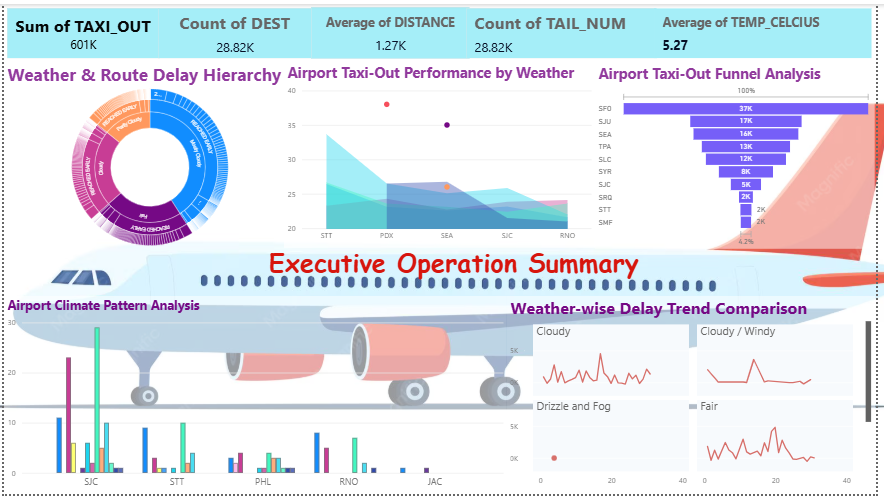

The page's visual inventory and layout, read from the dashboard file:
{"tool":"powerbi","page":{"name":"Page 25","canvas":[1280,720],"ordinal":27},"visuals":[{"type":"Sunburst1445472000808","title":"Weather & Route Delay Hierarchy","fields":{"Nodes":["M1_final.Condition","M1_final.Delay category","M1_final.DISTANCE"],"Values":["CountNonNull(M1_final.DEST)"]},"box":[0,86.7,429.1,273.3],"z":0},{"type":"lineChart","title":"Weather-wise Delay Trend Comparison","fields":{"Category":["M1_final.DAY_OF_MONTH"],"Y":["Sum(M1_final.DEP_DELAY)"],"Rows":["M1_final.Condition"]},"box":[739.1,429.1,540.7,290.9],"z":1000},{"type":"areaChart","title":"Airport Taxi-Out Performance by Weather","fields":{"Category":["M1_final.DEST"],"Y":["Avg(M1_final.TAXI_OUT)"],"Series":["M1_final.Condition"]},"box":[411.4,85.2,457,273.3],"z":2000},{"type":"textbox","box":[276.2,348.2,770,61.7],"z":3000},{"type":"clusteredColumnChart","title":"Airport Climate Pattern Analysis","fields":{"Category":["M1_final.DEST"],"Y":["CountNonNull(M1_final.Temp_category)"],"Series":["M1_final.Condition"]},"box":[0,429.1,739.1,290.9],"z":4000},{"type":"funnel","title":"Airport Taxi-Out Funnel Analysis","fields":{"Category":["M1_final.DEST"],"Y":["Sum(M1_final.TAXI_OUT)"]},"box":[868.4,86.7,411.4,273.3],"z":5000},{"type":"cardVisual","fields":{"Data":["Sum(M1_final.TAXI_OUT)"]},"box":[0,1.5,233.6,83.8],"z":6000},{"type":"cardVisual","fields":{"Data":["CountNonNull(M1_final.DEST)"]},"box":[221.9,1.5,235.1,83.8],"z":7000},{"type":"cardVisual","fields":{"Data":["Avg(M1_final.DISTANCE)"]},"box":[446.7,0,242.4,85.2],"z":8000},{"type":"cardVisual","fields":{"Data":["CountNonNull(M1_final.TAIL_NUM)"]},"box":[674.4,1.5,289.5,83.8],"z":9000},{"type":"cardVisual","fields":{"Data":["Avg(M1_final.TEMP_CELCIUS)"]},"box":[950.7,1.5,329.1,83.8],"z":10000}]}

Visuals, with their boxes in screenshot pixels (x1, y1, x2, y2), scaled from the page's 1280x720 canvas onto the 884x500 screenshot:
"Weather & Route Delay Hierarchy" Sunburst1445472000808: (0,60,296,250)
"Weather-wise Delay Trend Comparison" lineChart: (510,298,883,499)
"Airport Taxi-Out Performance by Weather" areaChart: (284,59,600,249)
textbox: (191,242,723,285)
"Airport Climate Pattern Analysis" clusteredColumnChart: (0,298,510,499)
"Airport Taxi-Out Funnel Analysis" funnel: (600,60,883,250)
cardVisual - Sum(M1_final.TAXI_OUT): (0,1,161,59)
cardVisual - CountNonNull(M1_final.DEST): (153,1,316,59)
cardVisual - Avg(M1_final.DISTANCE): (309,0,476,59)
cardVisual - CountNonNull(M1_final.TAIL_NUM): (466,1,666,59)
cardVisual - Avg(M1_final.TEMP_CELCIUS): (657,1,883,59)
